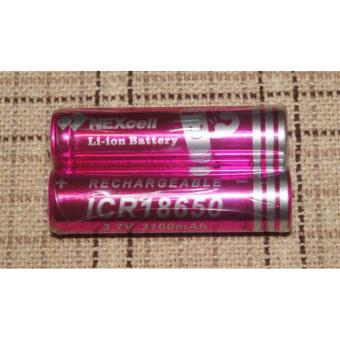Battery: (45, 173, 296, 239), (49, 105, 289, 172)
